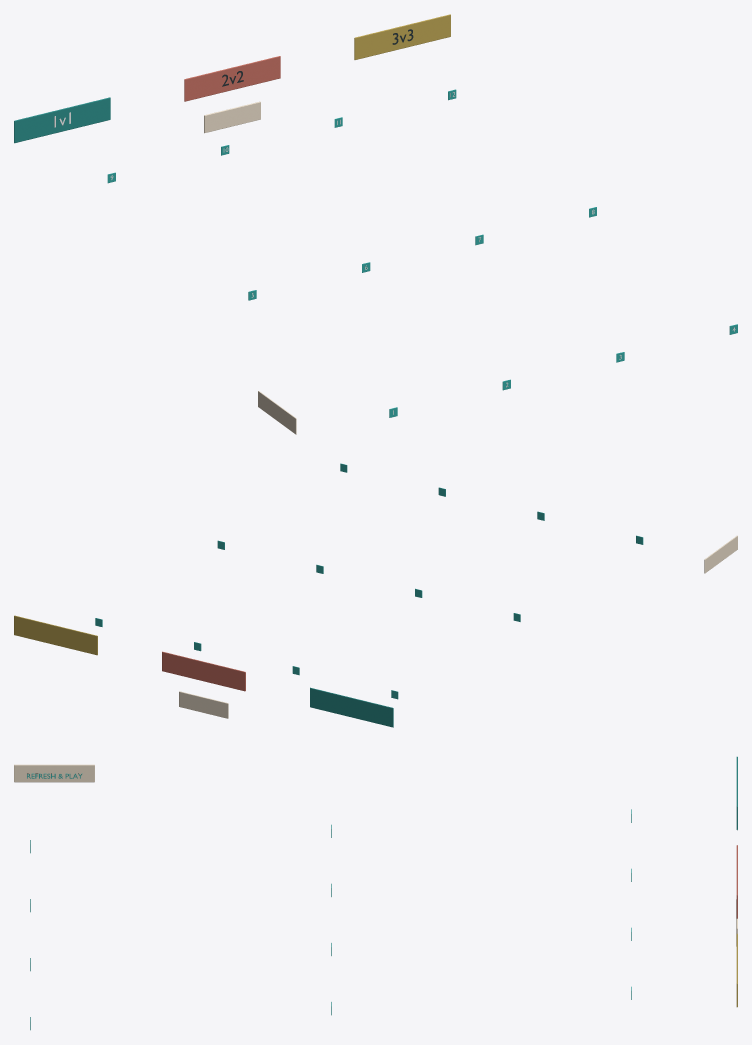
Rendered from Lounge_Signs.fbx.
3 views of the same model, one above another, from view 1: azimuth 30°, elevation 25°; view 2: azimuth 150°, elevation 25°; view 3: azimuth 270°, elevation 25° (orthographic). The views are drawn at different scales.
Parts seen in each view (by area): view 1: Zone_2v2, Zone_1v1, Zone_3v3, Sign_Logo_Blank, Sign_RefreshAndPlay_Panel; view 2: Zone_2v2, Zone_1v1, Zone_3v3, Sign_Logo_Blank, Sign_RefreshAndPlay_Panel; view 3: Sign_RefreshAndPlay_Panel.
Boxes of the visible parts, x1,y1,x2,y2 form: Zone_2v2: (184,56,280,101); Zone_1v1: (14,97,110,143); Zone_3v3: (354,14,450,59); Sign_Logo_Blank: (204,101,260,133); Sign_RefreshAndPlay_Panel: (258,391,296,434); Zone_2v2: (162,651,245,691); Zone_1v1: (310,687,393,727); Zone_3v3: (14,615,97,655); Sign_Logo_Blank: (179,691,228,718); Sign_RefreshAndPlay_Panel: (704,535,737,573); Sign_RefreshAndPlay_Panel: (14,764,94,782).
Size of the model in its own units: 87.08 by 11.05 by 104.
Materials: 1 (1 with a texture image).
